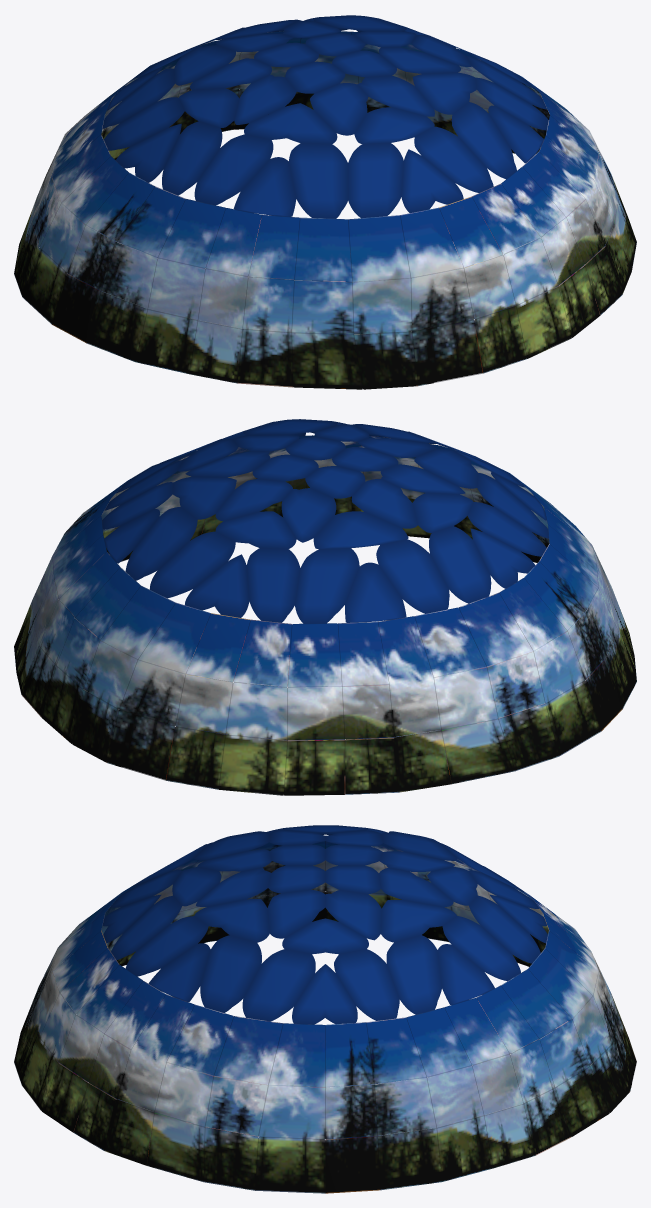
3 renders of one model, top to bottom at view 1: azimuth 30°, elevation 25°; view 2: azimuth 150°, elevation 25°; view 3: azimuth 270°, elevation 25°, orthographic. The views are drawn at different scales.
Parts seen in each view (by area): view 1: T1L8M008_40; view 2: T1L8M008_40; view 3: T1L8M008_40.
Part boxes in pixels (box(x1,y1,x2,y2)): T1L8M008_40: box(14, 15, 636, 389); T1L8M008_40: box(14, 419, 636, 795); T1L8M008_40: box(14, 825, 636, 1193).
Size of the model in its own units: 4.09 by 1.42 by 4.09.
Materials: 1 (1 with a texture image).
